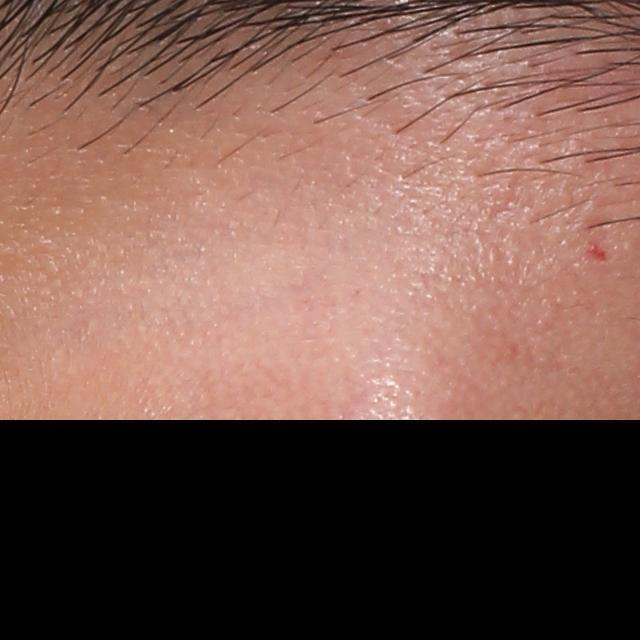other: (586, 241, 609, 261)
